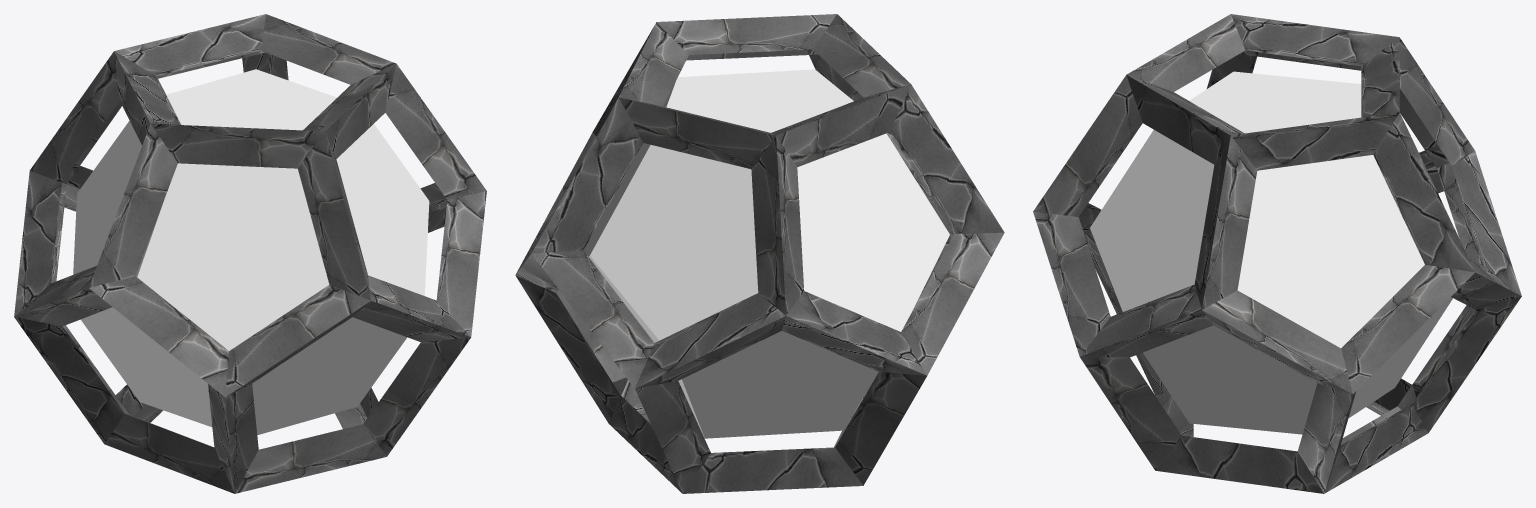
The model's file is effect_gap.glb.
3 renders of one model, left to right at view 1: azimuth 30°, elevation 25°; view 2: azimuth 150°, elevation 25°; view 3: azimuth 270°, elevation 25°, orthographic. The views are drawn at different scales.
Parts seen in each view (by area): view 1: Object_2.004; view 2: Object_2.004; view 3: Object_2.004.
Part boxes in pixels (x1,y1,x2,y2): Object_2.004: (14, 14, 486, 493); Object_2.004: (515, 14, 1004, 493); Object_2.004: (1033, 14, 1521, 493).
Bounding box in the file's own units: 0.7244 × 0.6162 × 0.7616.
Materials: 2 (1 with a texture image).
